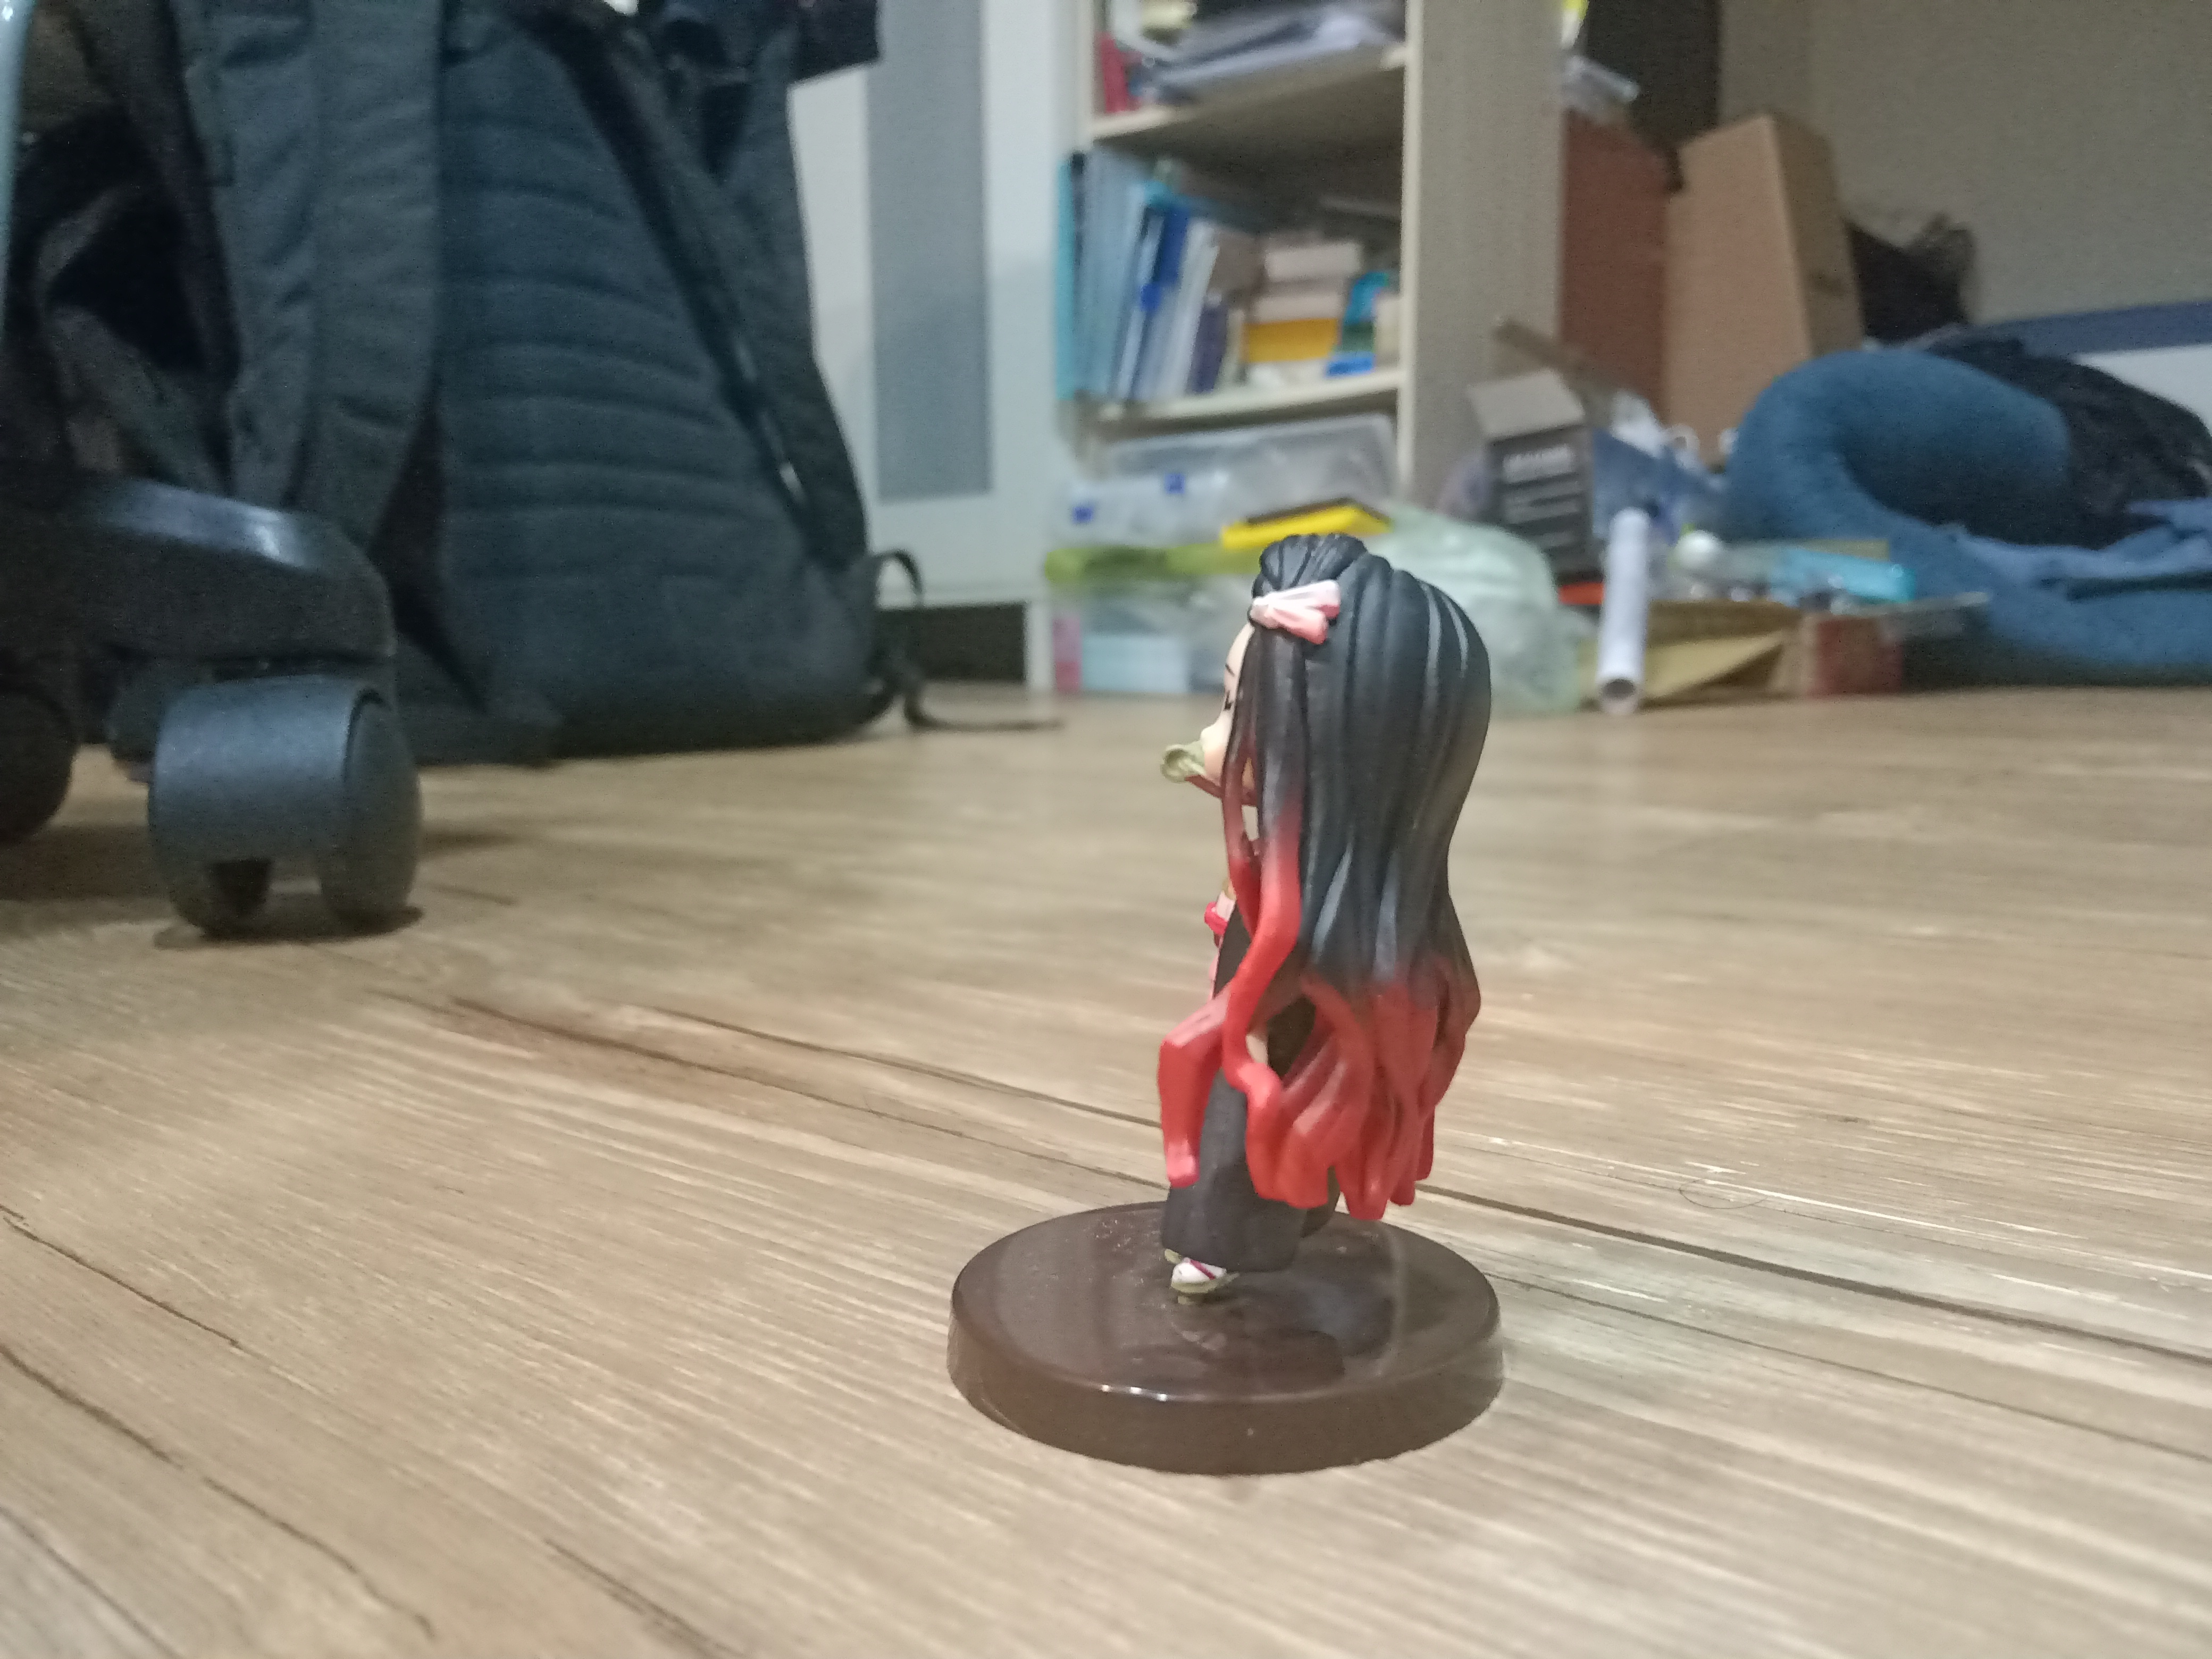Nezuko: (934, 525, 1548, 1502)
